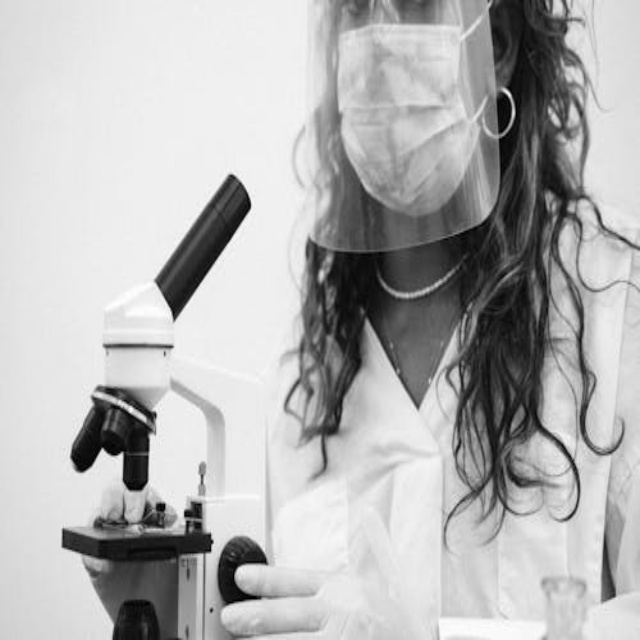Gafas: (326, 2, 456, 48)
Guantes: (223, 548, 403, 634)
Mascara: (337, 19, 484, 213)
